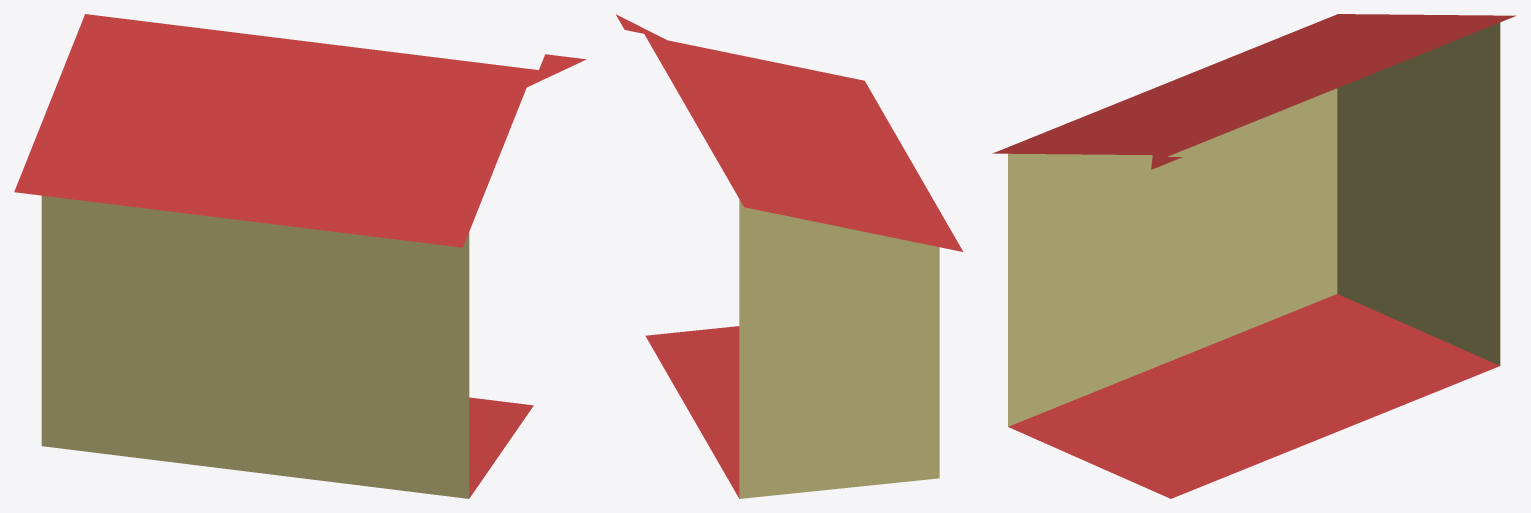
3 renders of one model, left to right at view 1: azimuth 30°, elevation 25°; view 2: azimuth 150°, elevation 25°; view 3: azimuth 270°, elevation 25°, orthographic. The views are drawn at different scales.
Size of the model in its own units: 12.48 by 11.51 by 8.49.
